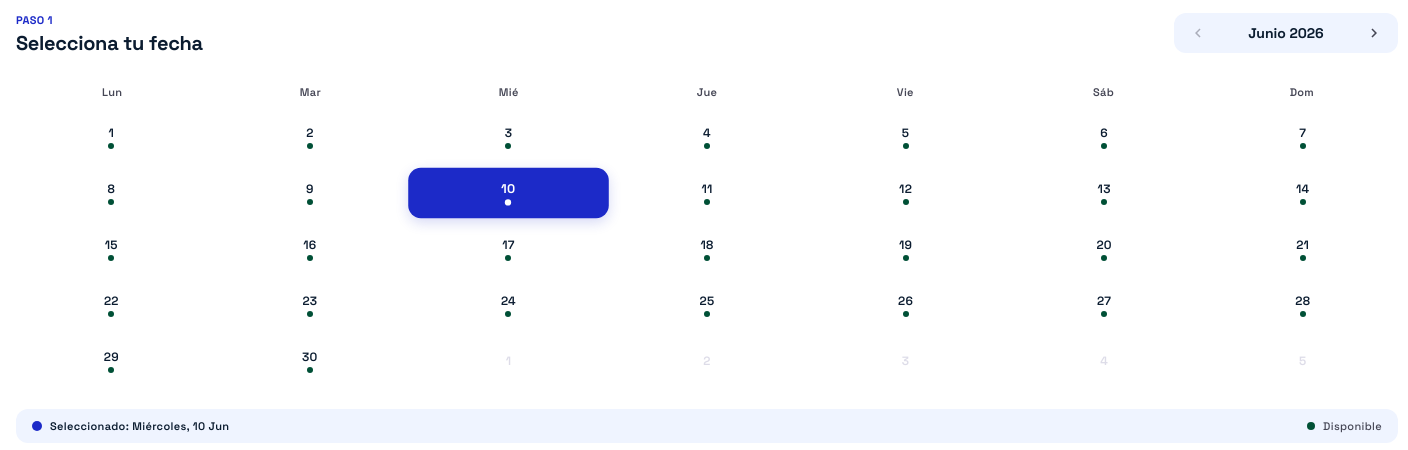
Test case: Calendar › navigates to the next month
The width and height of the screenshot is (1408, 450).
Expected: the text "Junio 2026" is shown, [1248,24,1324,42]
Click the button named "Mes siguiente": (1374,33) [1358,17,1390,49]
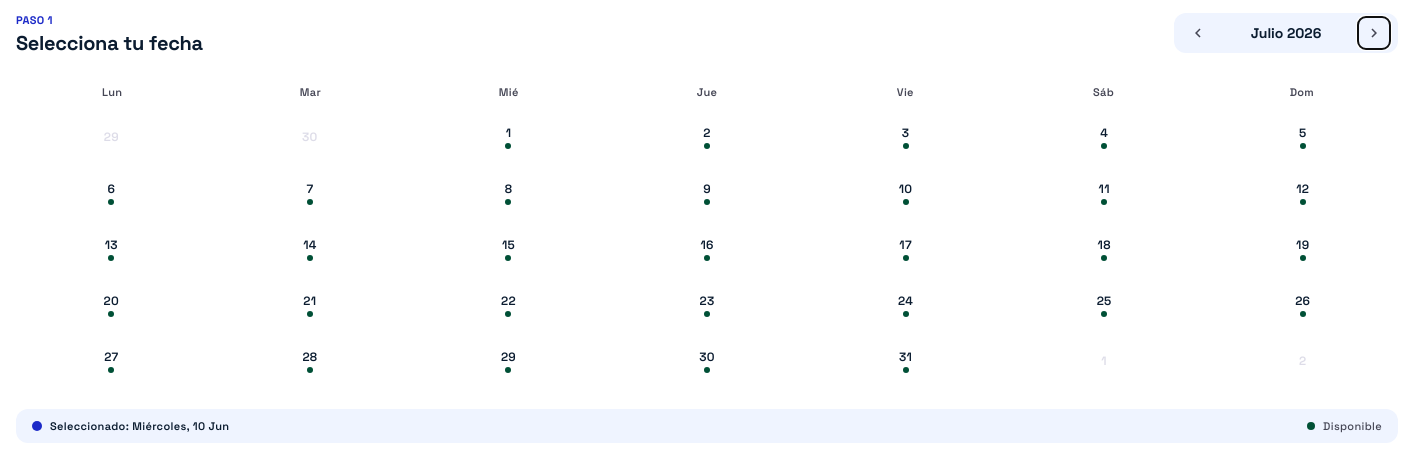
Now the text "Julio 2026" is shown, box [1251,24,1321,42]
